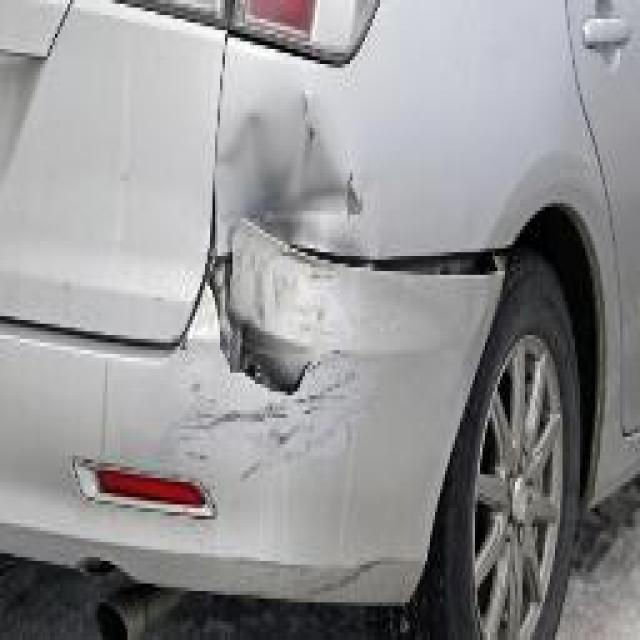Bumper: (158, 221, 504, 597)
Fender: (220, 40, 384, 259)
